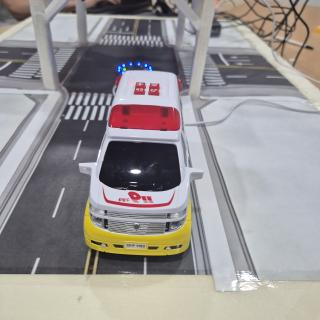Ambulance: (79, 70, 203, 256)
